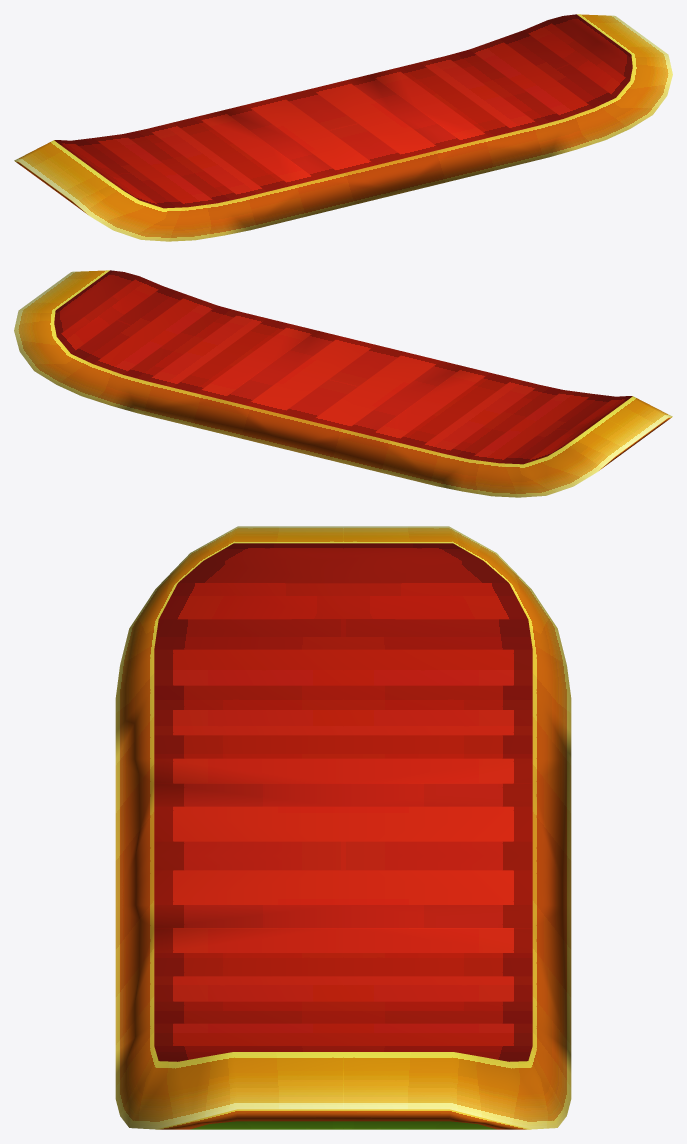
The model's file is HoverboardIcon.glb.
3 renders of one model, top to bottom at view 1: azimuth 30°, elevation 25°; view 2: azimuth 150°, elevation 25°; view 3: azimuth 270°, elevation 25°, orthographic. The views are drawn at different scales.
Visible parts, largest first — view 1: HoverboardIcon; view 2: HoverboardIcon; view 3: HoverboardIcon.
Boxes of the visible parts, x1=… form: HoverboardIcon: x1=14, y1=14, x2=672, y2=241; HoverboardIcon: x1=14, y1=270, x2=672, y2=497; HoverboardIcon: x1=115, y1=526, x2=571, y2=1129.
Size of the model in its own units: 8.35 by 0.7892 by 2.76.
1 material, 1 textured.
